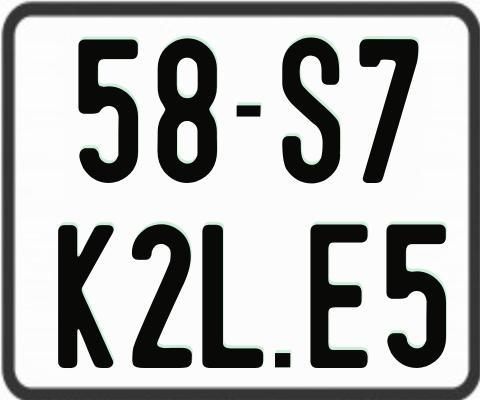2: (129, 224, 189, 370)
5: (386, 224, 451, 372), (75, 37, 140, 184)
7: (357, 36, 416, 180)
8: (157, 36, 220, 186)
E: (307, 224, 365, 373)
K: (57, 224, 118, 367)
L: (201, 222, 263, 367)
S: (279, 35, 342, 182)
